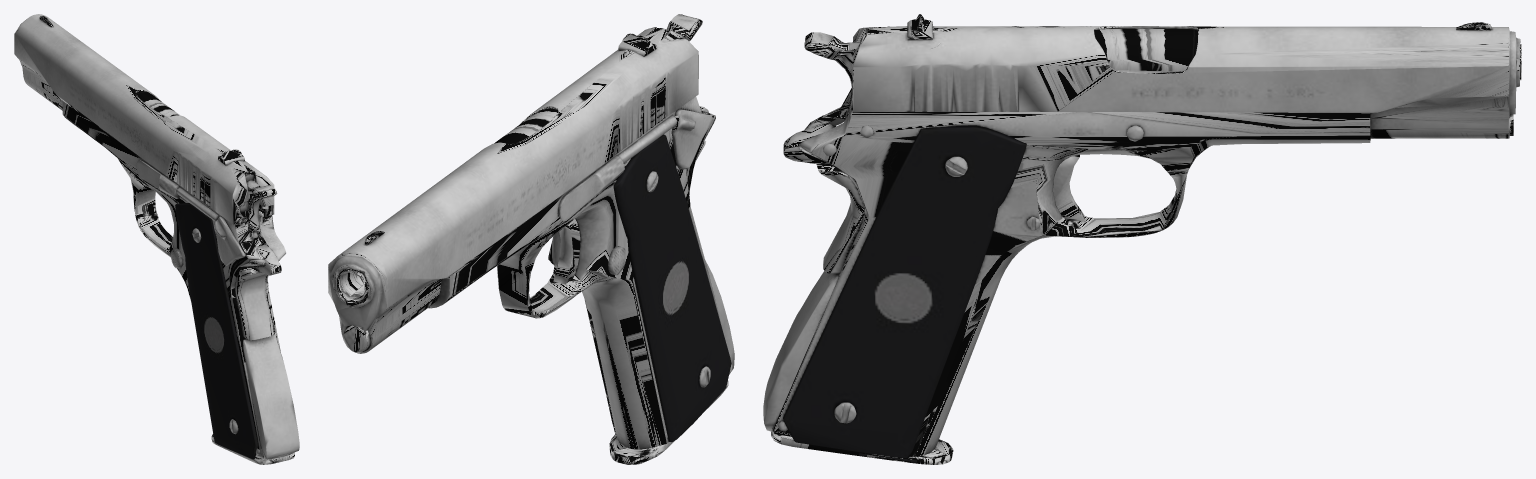
3 renders of one model, left to right at view 1: azimuth 30°, elevation 25°; view 2: azimuth 150°, elevation 25°; view 3: azimuth 270°, elevation 25°, orthographic. The views are drawn at different scales.
Bounding box in the file's own units: 0.0252 × 0.1382 × 0.216.
Materials: 1 (1 with a texture image).
